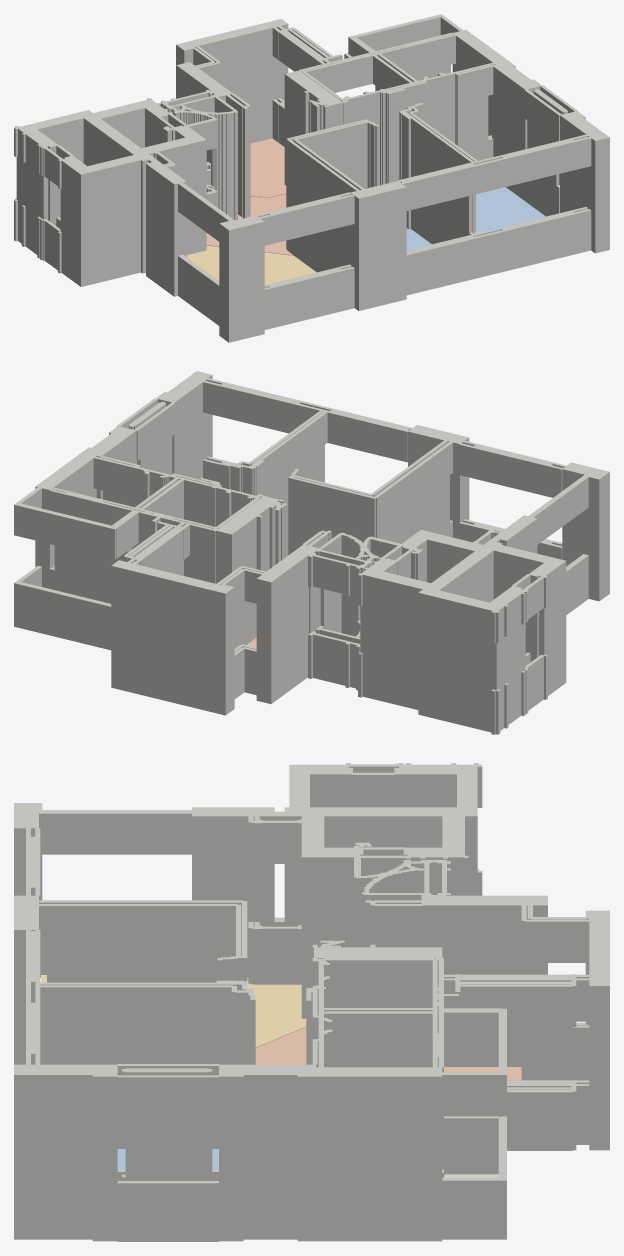
The picture shows the model from 3 angles, top to bottom: view 1: azimuth 30°, elevation 25°; view 2: azimuth 150°, elevation 25°; view 3: azimuth 270°, elevation 25°; orthographic projection. The views are drawn at different scales.
Parts seen in each view (by area): view 1: walls, room:bedroom:9, room:kitchen:0, room:living:11, room:kitchen:2; view 2: walls; view 3: walls, room:living:11, room:kitchen:2.
Boxes of the visible parts, <box> form: walls: <box>14,14,609,342</box>; room:bedroom:9: <box>476,187,545,232</box>; room:kitchen:0: <box>250,138,286,197</box>; room:living:11: <box>186,245,316,284</box>; room:kitchen:2: <box>206,194,293,255</box>; walls: <box>14,371,609,734</box>; walls: <box>14,763,609,1241</box>; room:living:11: <box>247,977,306,1047</box>; room:kitchen:2: <box>255,1027,306,1064</box>.
Bounding box in the file's own units: 11.48 × 2.8 × 9.2.
